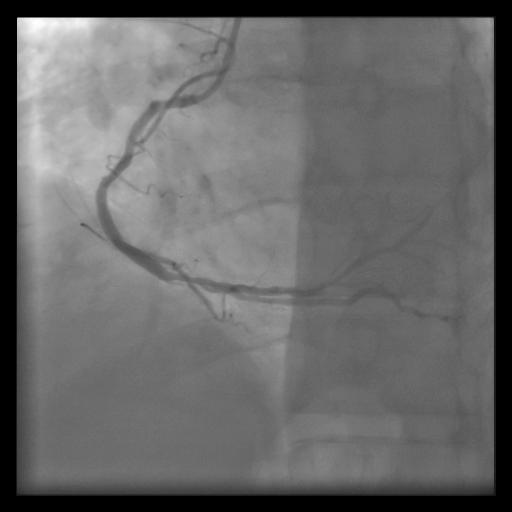Stenosis: (171, 262, 208, 296)
